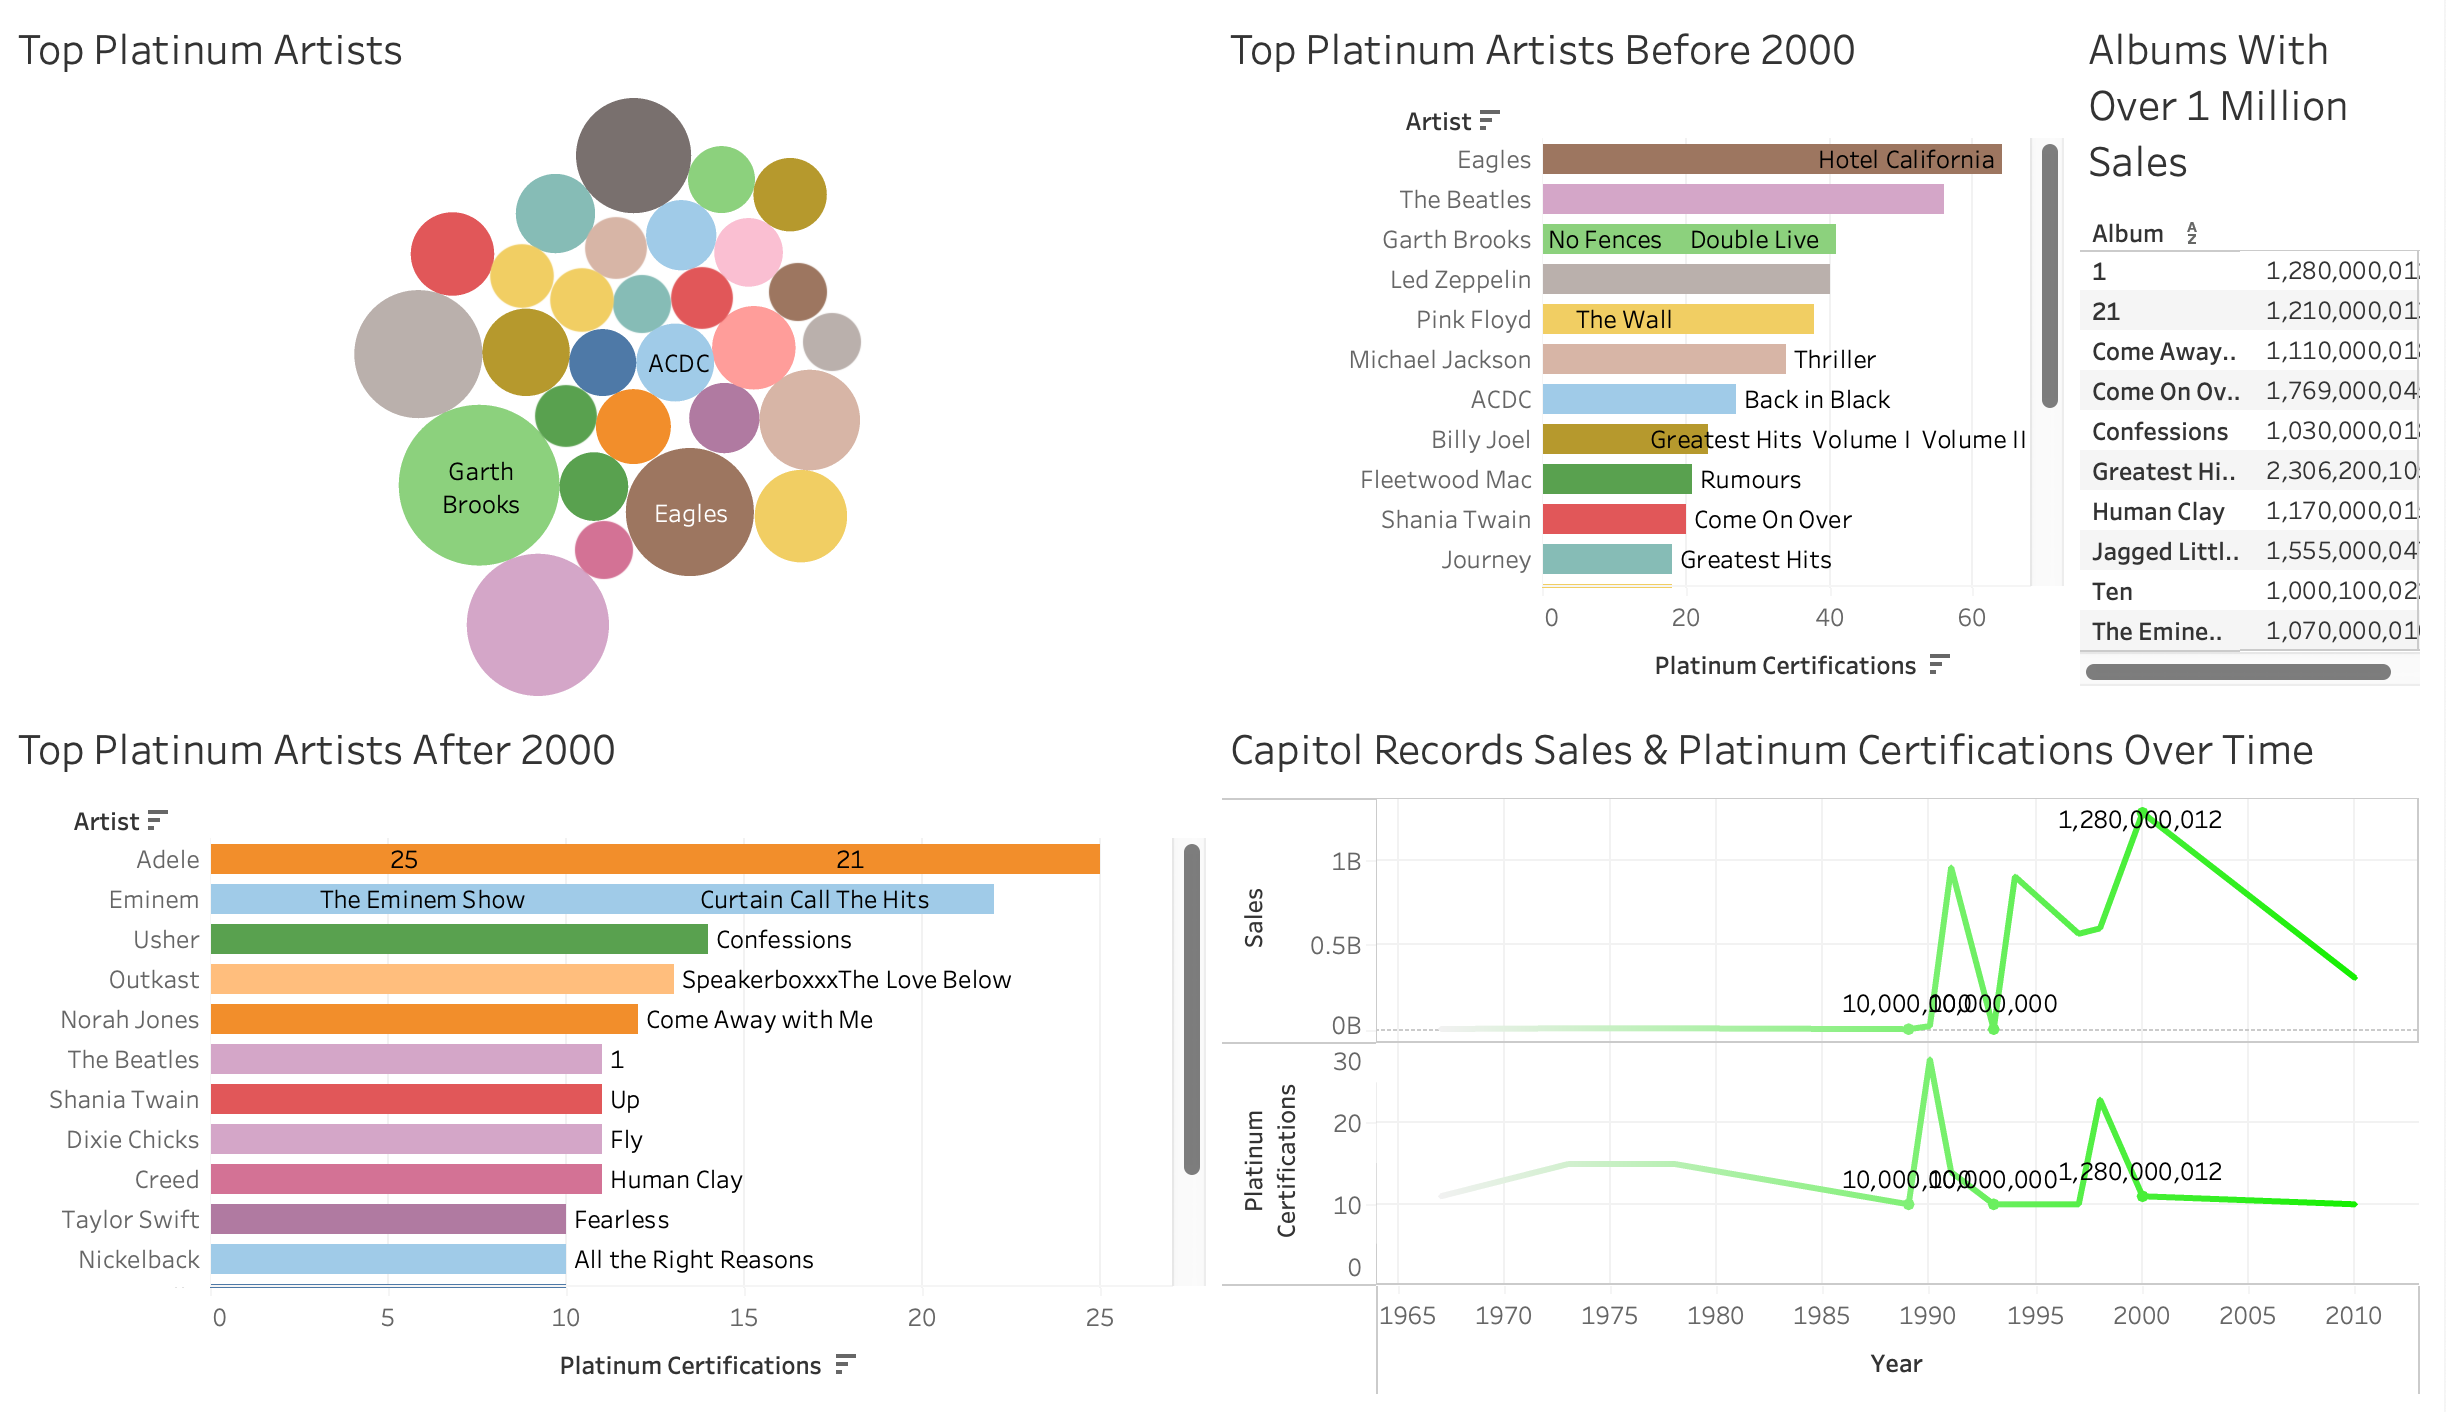

The page's visual inventory and layout, read from the dashboard file:
{"tool":"tableau","page":{"name":"Dashboard 1","canvas":[1000,1000],"units":"permille","ordinal":0},"visuals":[{"type":"worksheet","title":"Sheet 6","mark":"Circle","box":[6.5,11.2,243.3,488.8]},{"type":"worksheet","title":"Top Platinum Albums Before 2000","mark":"Automatic","rows":["Artist"],"cols":["Platinum_Certifications"],"box":[249.8,11.2,552.5,488.8]},{"type":"worksheet","title":"Albums With Over 1 Million Sales","mark":"Automatic","rows":["Album"],"box":[802.3,11.2,191.2,488.8]},{"type":"worksheet","title":"Top Platinum Artists After 2000","mark":"Automatic","rows":["Artist"],"cols":["Platinum_Certifications"],"box":[6.5,500,493.5,488.8]},{"type":"worksheet","title":"Capitol Records Sales & Platinum Certifications Over Time","mark":"Automatic","rows":["Sales","Platinum_Certifications"],"cols":["Year"],"box":[500,500,493.5,488.8]}]}

Visuals, with their boxes on the dashboard's canvas, which has no fixed pixel size, in thousandths of its width and height (x1, y1, x2, y2). These are canvas units, not pixel positions in the 2446x1412 screenshot, which may show the page scaled, cropped or inside an application window:
"Sheet 6" worksheet (Circle marks): bbox(6, 11, 250, 500)
"Top Platinum Albums Before 2000" worksheet: bbox(250, 11, 802, 500)
"Albums With Over 1 Million Sales" worksheet: bbox(802, 11, 994, 500)
"Top Platinum Artists After 2000" worksheet: bbox(6, 500, 500, 989)
"Capitol Records Sales & Platinum Certifications Over Time" worksheet: bbox(500, 500, 994, 989)
